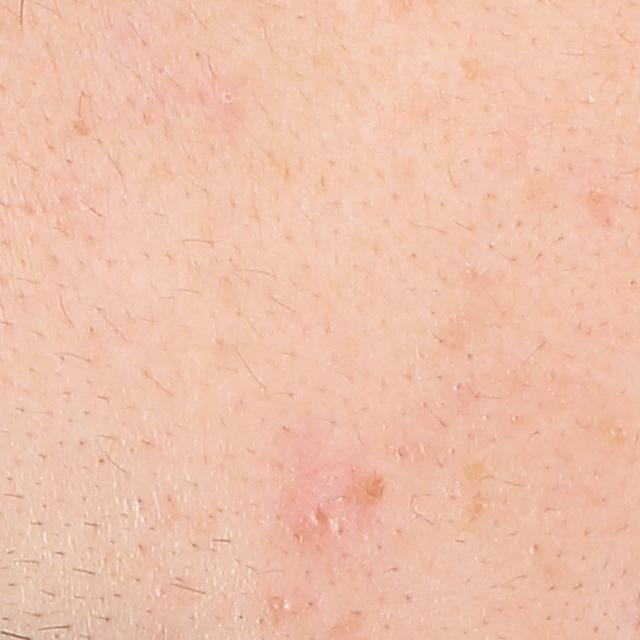comedo: (221, 89, 241, 107)
